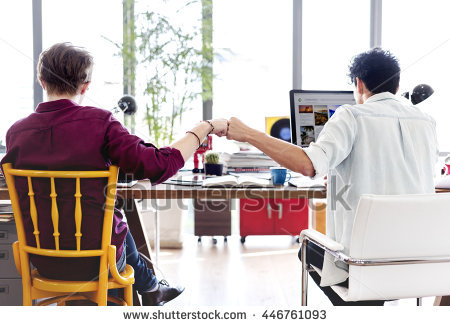fist: (230, 116, 255, 146), (206, 114, 230, 140)
